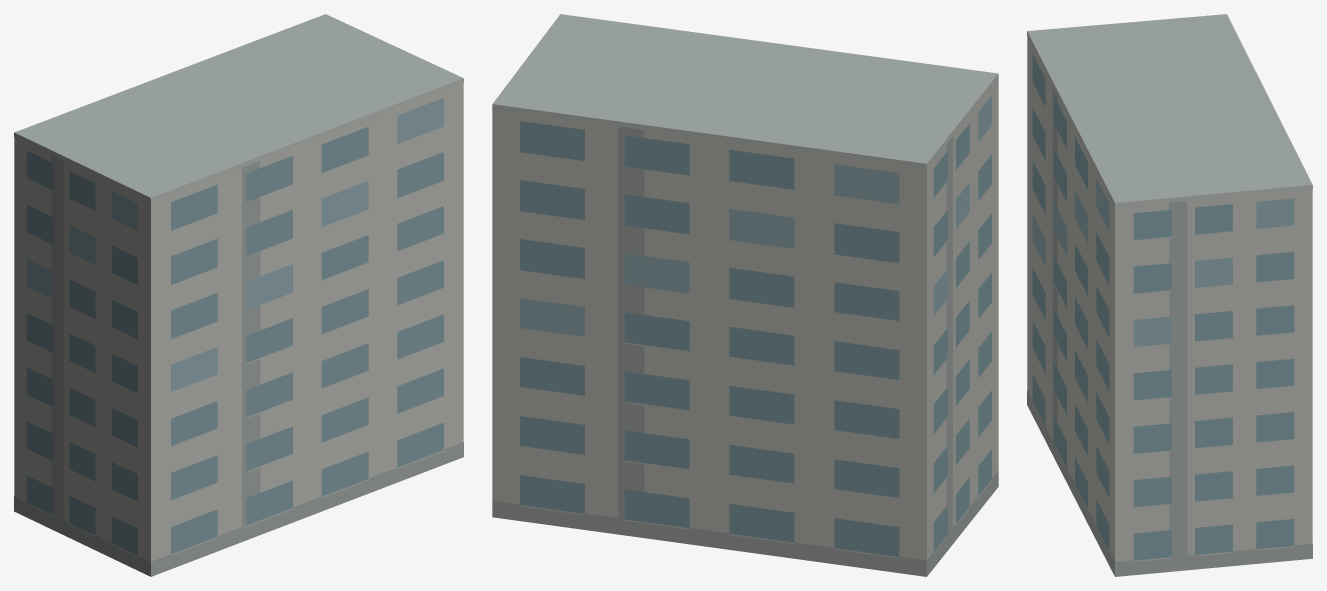
The model's file is survey-upis-32699316.glb.
3 renders of one model, left to right at view 1: azimuth 30°, elevation 25°; view 2: azimuth 150°, elevation 25°; view 3: azimuth 270°, elevation 25°, orthographic. The views are drawn at different scales.
Parts seen in each view (by area): view 1: survey-upis-32699316.tmp; view 2: survey-upis-32699316.tmp; view 3: survey-upis-32699316.tmp.
Boxes of the visible parts, x1=… form: survey-upis-32699316.tmp: x1=14, y1=14, x2=463, y2=576; survey-upis-32699316.tmp: x1=492, y1=14, x2=998, y2=576; survey-upis-32699316.tmp: x1=1027, y1=14, x2=1312, y2=576.
Size of the model in its own units: 21.71 by 20 by 13.86.
